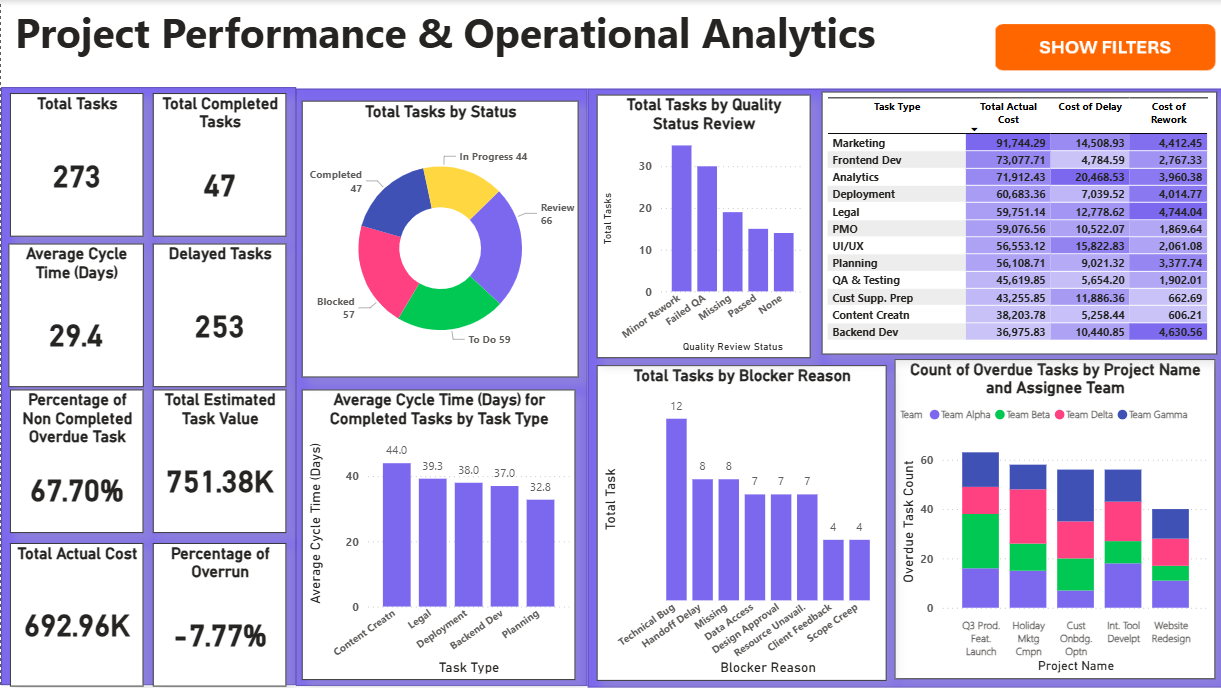

What the dashboard file says about the page in this screenshot:
{"tool":"powerbi","page":{"name":"Final Diagnostic Dash","canvas":[1280,720],"ordinal":0},"visuals":[{"type":"textbox","box":[9.6,0,1026.7,82.8],"z":0},{"type":"shape","box":[309.1,93.4,305.3,625.5],"z":0,"group":"g1"},{"type":"shape","box":[614.4,93.9,666.9,627.1],"z":0,"group":"g2"},{"type":"shape","box":[0,94.3,308.3,624.9],"z":0,"group":"g3"},{"type":"group","id":"g1","title":"Group 3","box":[309.1,93.4,305.3,625.5],"z":1000},{"type":"slicer","title":"Project Name","fields":{"Values":["project_tasks_for_power_bi.project_name - Copy"]},"box":[9.6,104.5,286.5,106.6],"z":1000,"group":"g3"},{"type":"columnChart","title":"Count of Overdue Tasks by Project Name and Assignee Team","fields":{"Category":["project_tasks_for_power_bi.project_name"],"Y":["CountNonNull(project_tasks_for_power_bi.is_overdue)"],"Series":["project_tasks_for_power_bi.assignee_team"]},"box":[935.4,377.3,335.3,334.8],"z":1000,"group":"g2"},{"type":"clusteredColumnChart","title":"Average Cycle Time (Days) for Completed Tasks by Task Type","fields":{"Category":["project_tasks_for_power_bi.task_type_name"],"Y":["measure table.Average Cycle Time (Days) for Completed Tasks"]},"box":[315.4,408,286.5,304],"z":1000,"group":"g1"},{"type":"group","id":"g2","title":"Group 4","box":[614.4,93.9,666.9,627.1],"z":2000},{"type":"donutChart","title":"Total Tasks by Status","fields":{"Category":["project_tasks_for_power_bi.status"],"Y":["measure table.Total Tasks"]},"box":[315.4,105.6,289.7,289.7],"z":2000,"group":"g1"},{"type":"slicer","title":"Priority","fields":{"Values":["project_tasks_for_power_bi.priority"]},"box":[13.9,378.1,282.1,157.7],"z":2000,"group":"g3"},{"type":"columnChart","title":"Total Tasks by Blocker Reason","fields":{"Category":["project_tasks_for_power_bi.blocker_reason"],"Y":["measure table.Total Tasks"]},"box":[624,383.6,303.4,330],"z":2000,"group":"g2"},{"type":"group","id":"g3","title":"SLICERS","box":[0,0.8,1254.3,718.3],"z":3000},{"type":"clusteredColumnChart","title":"Total Tasks by Quality Status Review","fields":{"Category":["project_tasks_for_power_bi.quality_review_status"],"Y":["measure table.Total Tasks"]},"box":[624,99.9,223.6,275.8],"z":3000,"group":"g2"},{"type":"slicer","title":"Due Date","fields":{"Values":["project_tasks_for_power_bi.due_date"]},"box":[13.9,232.3,282.1,128.1],"z":3000,"group":"g3"},{"type":"tableEx","fields":{"Values":["project_tasks_for_power_bi.task_type_name","measure table.Total Actual Cost","measure table.Cost of Delay","measure table.Cost of Rework"]},"box":[859.3,96.9,413.7,274.8],"z":4000,"group":"g2"},{"type":"slicer","title":"Team","fields":{"Values":["project_tasks_for_power_bi.assignee_team"]},"box":[13.9,545.7,282.1,163.6],"z":4000,"group":"g3"},{"type":"image","box":[1047.3,0.8,111.4,97.1],"z":6000,"group":"g3"},{"type":"image","box":[1158.8,23.3,95.5,55.7],"z":7000,"group":"g3"}]}

Visuals, with their boxes in screenshot pixels (x1, y1, x2, y2), scaled from the page's 1280x720 canvas onto the 1221x688 screenshot:
textbox: 9/0/989/79
shape: 295/89/586/687
shape: 586/90/1220/687
shape: 0/90/294/687
"Group 3" group: 295/89/586/687
"Project Name" slicer: 9/100/282/202
"Count of Overdue Tasks by Project Name and Assignee Team" columnChart: 892/361/1212/680
"Average Cycle Time (Days) for Completed Tasks by Task Type" clusteredColumnChart: 301/390/574/680
"Group 4" group: 586/90/1220/687
"Total Tasks by Status" donutChart: 301/101/577/378
"Priority" slicer: 13/361/282/512
"Total Tasks by Blocker Reason" columnChart: 595/367/885/682
"SLICERS" group: 0/1/1196/687
"Total Tasks by Quality Status Review" clusteredColumnChart: 595/95/809/359
"Due Date" slicer: 13/222/282/344
tableEx - project_tasks_for_power_bi.task_type_name x measure table.Total Actual Cost: 820/93/1214/355
"Team" slicer: 13/521/282/678
image: 999/1/1105/94
image: 1105/22/1196/75
